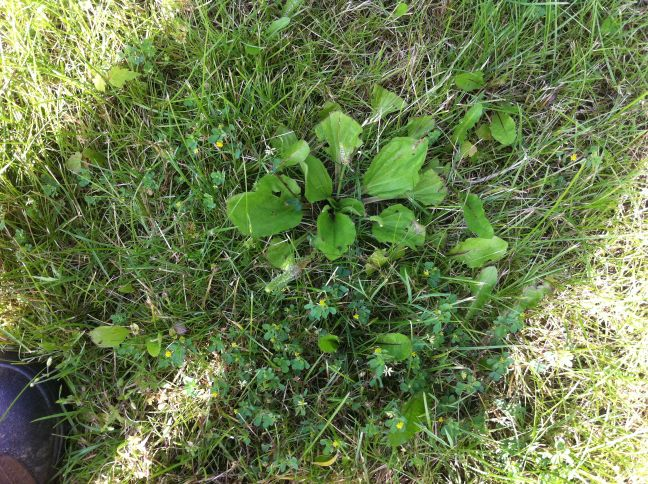weed1: (224, 109, 455, 263)
